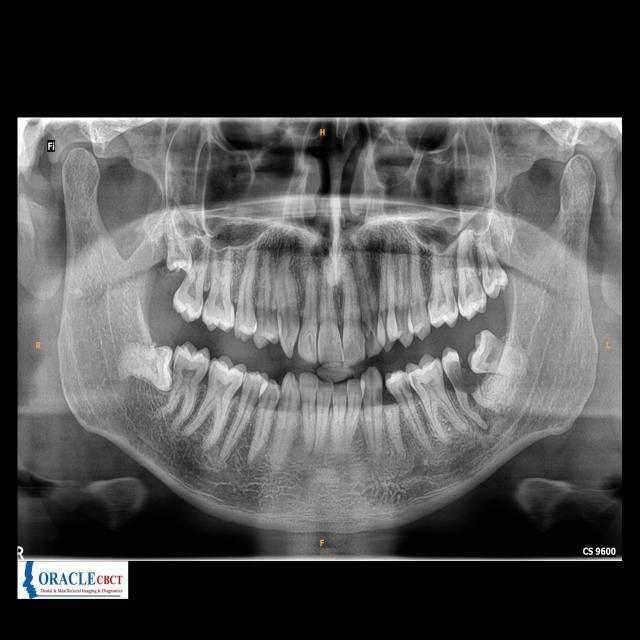dentin-curugu: (450, 356, 480, 396), (360, 317, 380, 353)
